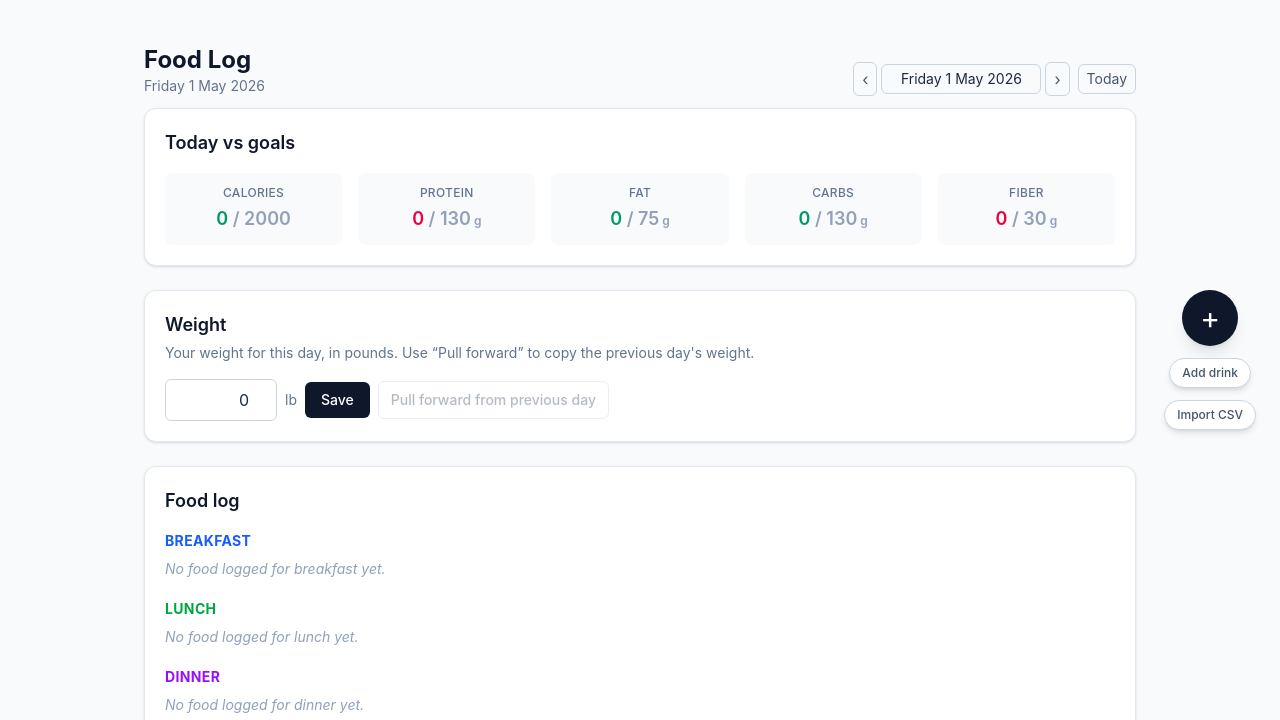
it: Dashboard › read-only goal resolution › switches to the earlier goal when navigating before the change
The image size is (1280, 720).
Check: the element named "Protein consumed" shows "/ 130", box [412,208,482,229]
# Step back across the 2026-05-01 boundary → the earlier 120 goal applies.
Step 1. Click the button named "Previous day" → (865, 79), box [853,62,878,96]
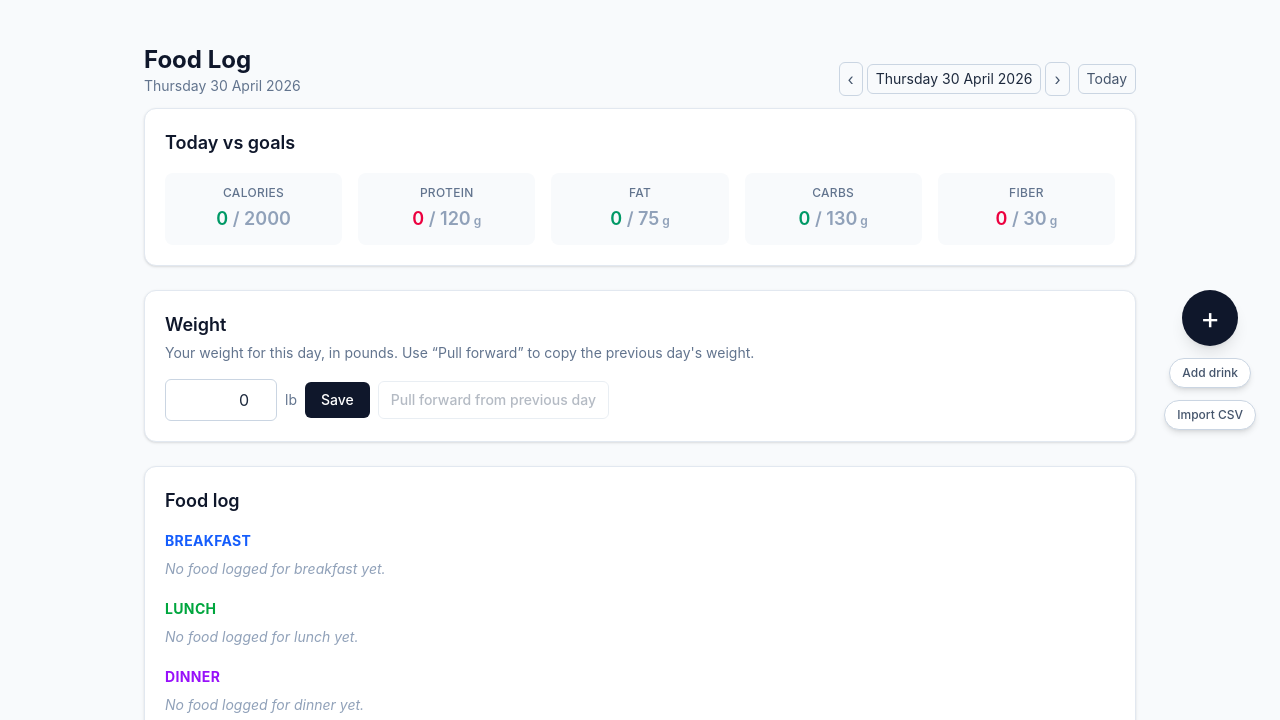
Check: the element named "Protein consumed" shows "/ 120", box [412,208,481,229]
